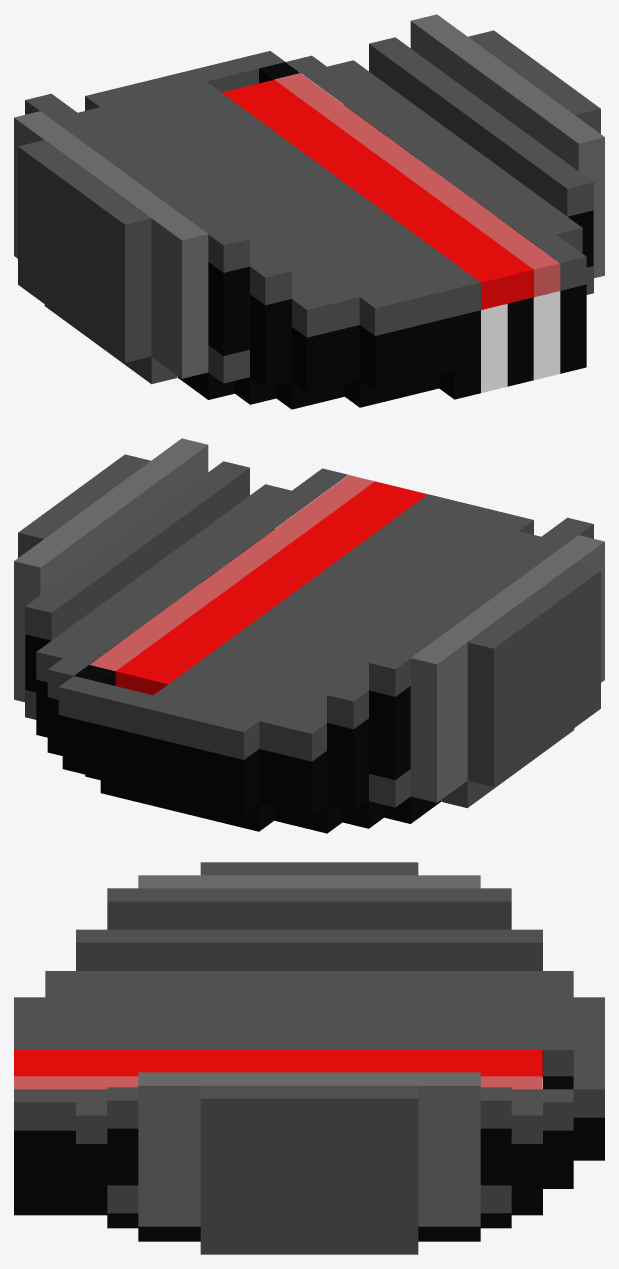
File: 1764_fit_tuxedo.glb
3 views of the same model, one above another, from view 1: azimuth 30°, elevation 25°; view 2: azimuth 150°, elevation 25°; view 3: azimuth 270°, elevation 25° (orthographic).
Size of the model in its own units: 18 by 6 by 19.
